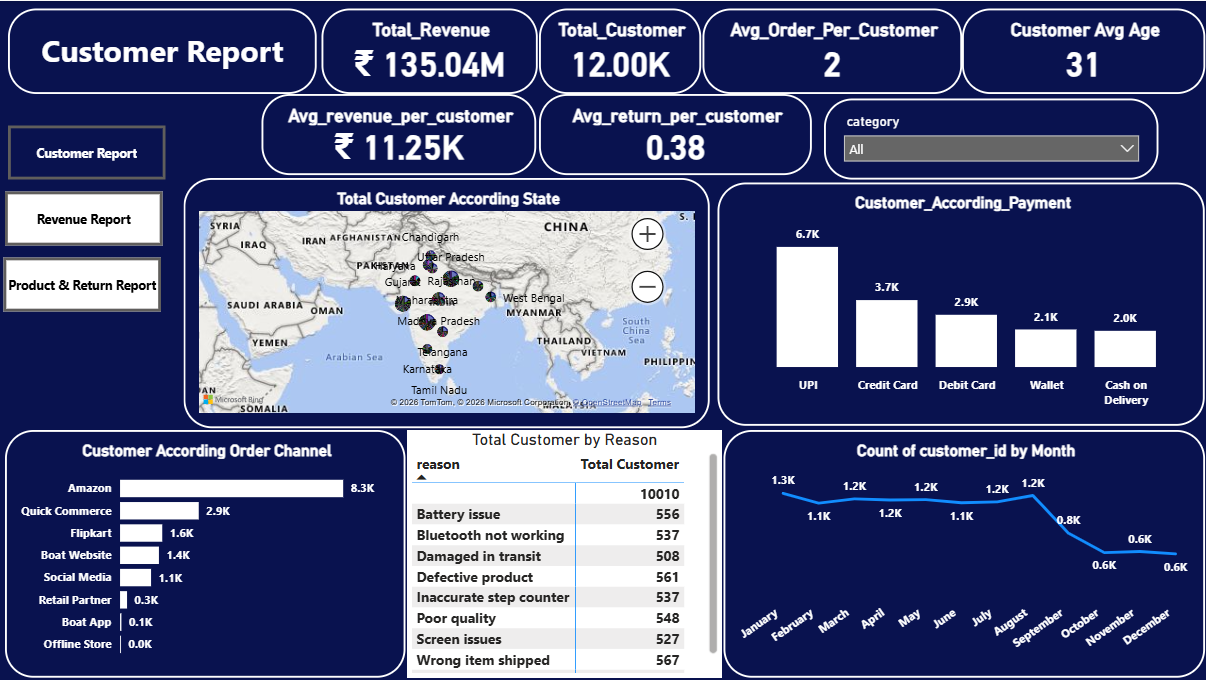

Layout of this report page (visuals, bound fields, positions):
{"tool":"powerbi","page":{"name":"Customer Report","canvas":[1280,720],"ordinal":1},"visuals":[{"type":"card","title":"Total_Customer","fields":{"Values":["Count(Boat Customer.customer_id)"]},"box":[572.6,8,171.8,90.7],"z":0},{"type":"card","title":"Total_Revenue","fields":{"Values":["Sum(Order_Detail.Total_Amount)"]},"box":[342,8,229,90.7],"z":1000},{"type":"card","title":"Customer Avg Age","fields":{"Values":["Avg(Boat Customer.age)"]},"box":[1021.2,8,257.7,90.7],"z":2000},{"type":"card","title":"Avg_Order_Per_Customer","fields":{"Values":["Boat Customer.Avg_Order_per_customer"]},"box":[746,8,275.2,90.7],"z":3000},{"type":"card","title":"Avg_revenue_per_customer","fields":{"Values":["Order_Detail.avg_per"]},"box":[278.4,98.6,291.1,85.9],"z":4000},{"type":"card","title":"Avg_return_per_customer","fields":{"Values":["Order_Detail.Avg_return_per_customer"]},"box":[572.6,98.6,289.5,85.9],"z":5000},{"type":"map","title":"Total Customer According State","fields":{"Category":["Boat Customer.state"],"Series":["Order_Detail.Total_Amount"],"Size":["CountNonNull(Boat Customer.customer_id)"]},"box":[195.6,187.7,558.3,265.6],"z":6000},{"type":"clusteredColumnChart","title":"Customer_According_Payment","fields":{"Category":["Order_Boat.payment_method"],"Y":["CountNonNull(Boat Customer.customer_id)"]},"box":[761.9,192.5,516.9,257.7],"z":7000},{"type":"clusteredBarChart","title":"Customer According Order Channel","fields":{"Category":["Order_Boat.Order_Channel"],"Y":["CountNonNull(Boat Customer.customer_id)"]},"box":[6.4,454.9,424.7,262.5],"z":8000},{"type":"lineChart","fields":{"Category":["Boat Customer.Registration Date.Variation.Date Hierarchy.Month"],"Y":["CountNonNull(Boat Customer.customer_id)"]},"box":[768.3,454.9,510.6,262.5],"z":9000},{"type":"pivotTable","title":"Total Customer by Reason","fields":{"Values":["CountNonNull(Boat Customer.customer_id)"],"Rows":["Return.reason"]},"box":[432.6,454.9,334,262.5],"z":10000},{"type":"slicer","fields":{"Values":["Product.category"]},"box":[874.8,103.4,354.7,85.9],"z":11000},{"type":"textbox","box":[9.5,8,327.7,90.7],"z":12000},{"type":"actionButton","box":[9.5,132,167,57.3],"z":13000},{"type":"actionButton","box":[6.4,202,167,57.3],"z":14000},{"type":"actionButton","box":[4.8,272,167,57.3],"z":15000}]}

Visuals, with their boxes in screenshot pixels (x1, y1, x2, y2), scaled from the page's 1280x720 canvas onto the 1206x680 screenshot:
"Total_Customer" card: <region>539, 8, 701, 93</region>
"Total_Revenue" card: <region>322, 8, 538, 93</region>
"Customer Avg Age" card: <region>962, 8, 1205, 93</region>
"Avg_Order_Per_Customer" card: <region>703, 8, 962, 93</region>
"Avg_revenue_per_customer" card: <region>262, 93, 537, 174</region>
"Avg_return_per_customer" card: <region>539, 93, 812, 174</region>
"Total Customer According State" map: <region>184, 177, 710, 428</region>
"Customer_According_Payment" clusteredColumnChart: <region>718, 182, 1205, 425</region>
"Customer According Order Channel" clusteredBarChart: <region>6, 430, 406, 678</region>
lineChart - Boat Customer.Registration Date.Variation.Date Hierarchy.Month x CountNonNull(Boat Customer.customer_id): <region>724, 430, 1205, 678</region>
"Total Customer by Reason" pivotTable: <region>408, 430, 722, 678</region>
slicer - Product.category: <region>824, 98, 1158, 179</region>
textbox: <region>9, 8, 318, 93</region>
actionButton: <region>9, 125, 166, 179</region>
actionButton: <region>6, 191, 163, 245</region>
actionButton: <region>5, 257, 162, 311</region>
